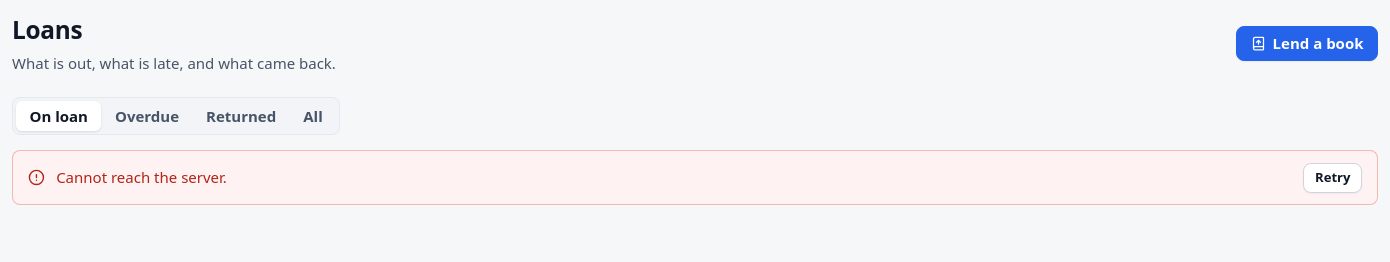
Test: LoansPage › shows a load failure with Retry
Click the button "Retry" at (1333, 178), box [1304, 163, 1362, 193]
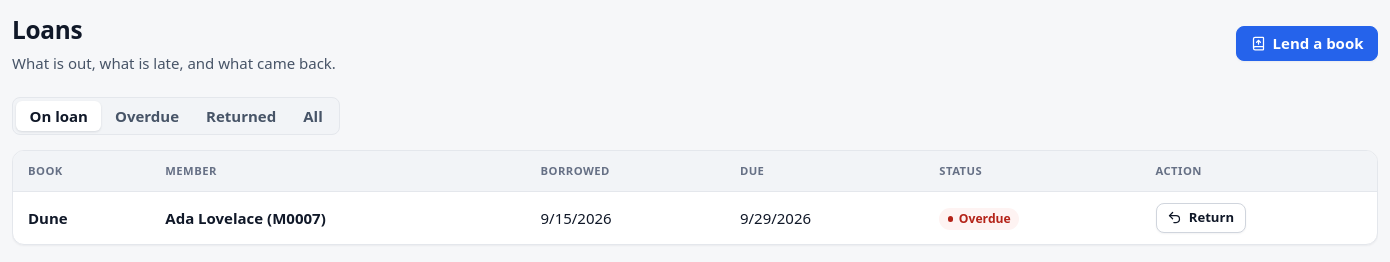
Check: the table is shown, box [13, 151, 1377, 244]
